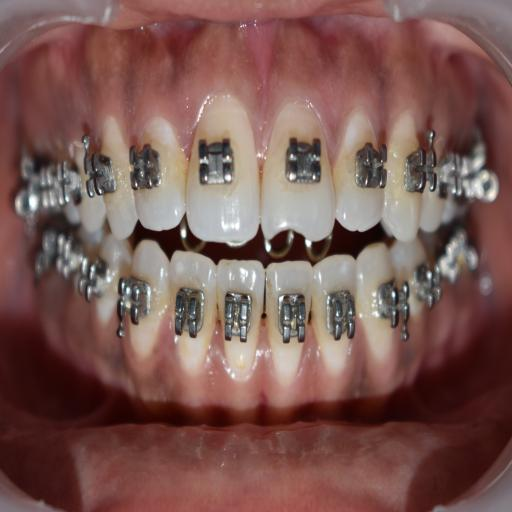correct_brace: (196, 132, 236, 192), (173, 281, 208, 346), (220, 287, 256, 350), (284, 133, 323, 189), (324, 284, 357, 346), (275, 285, 309, 345), (129, 140, 163, 198), (354, 140, 387, 192)
incorrect_brace: (126, 109, 186, 231), (336, 109, 386, 235), (170, 252, 214, 378), (316, 254, 361, 372)
